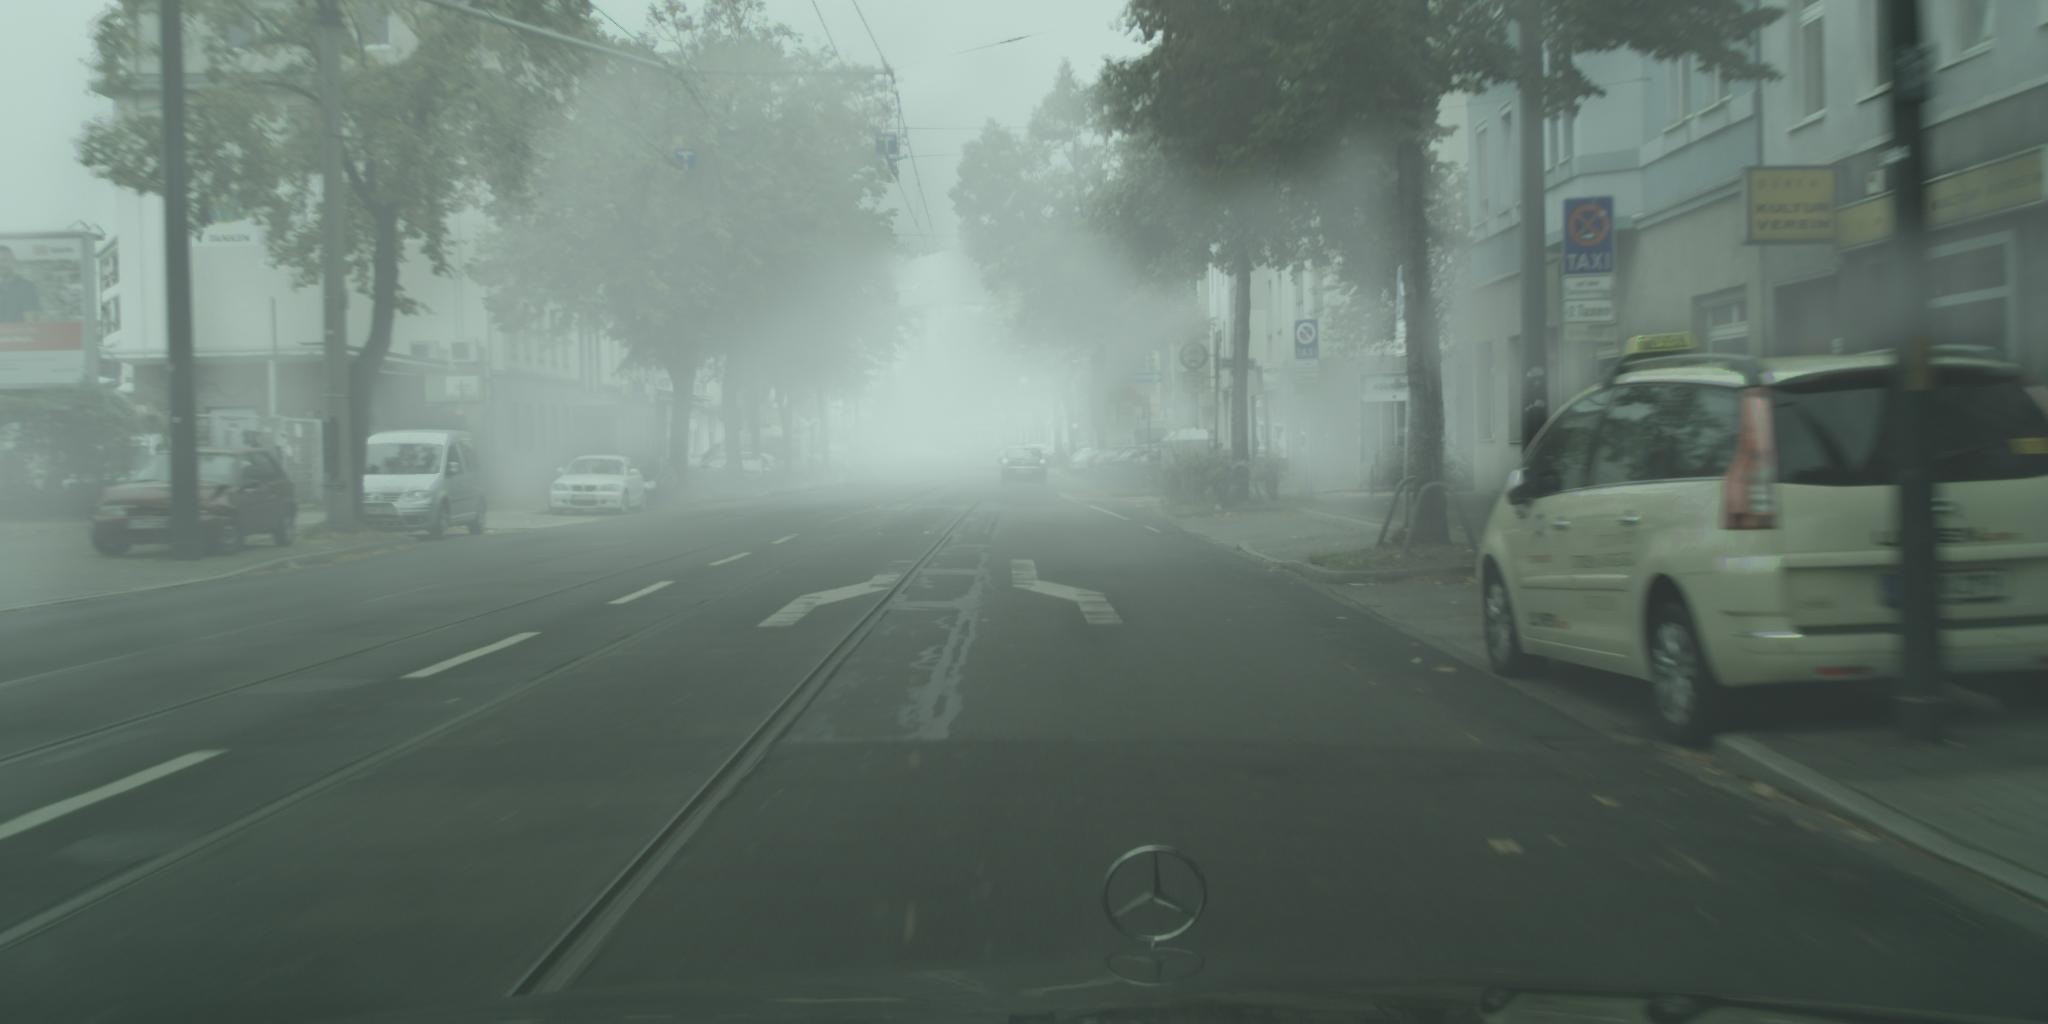car: (1477, 330, 2048, 750), (91, 448, 300, 560), (363, 430, 488, 543), (549, 456, 649, 517), (616, 455, 680, 512), (1093, 419, 1183, 458), (998, 447, 1049, 488), (1067, 448, 1101, 481)
